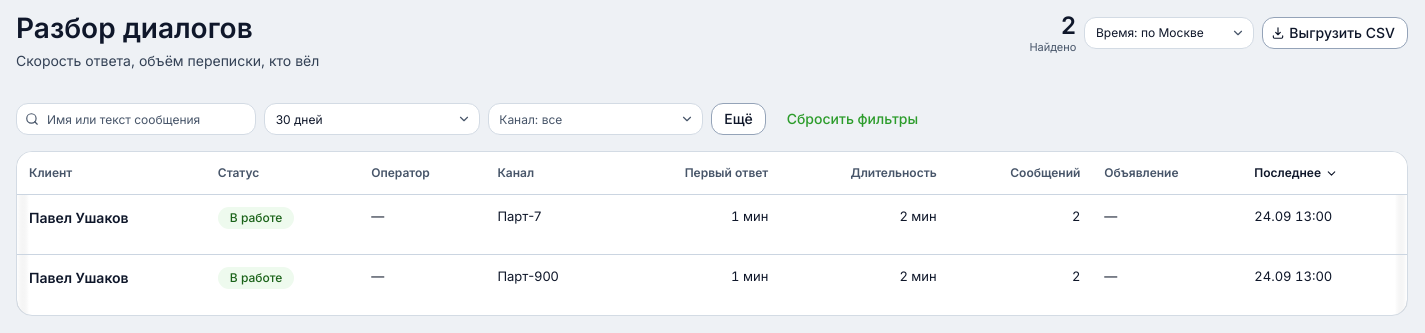
Test: Фильтр «Канал» в «Разборе диалогов» › у менеджера варианты собраны из строк таблицы
The image size is (1425, 333).
Click the field named "Фильтр по каналу" at {"x": 596, "y": 119}, box [488,103,703,135]
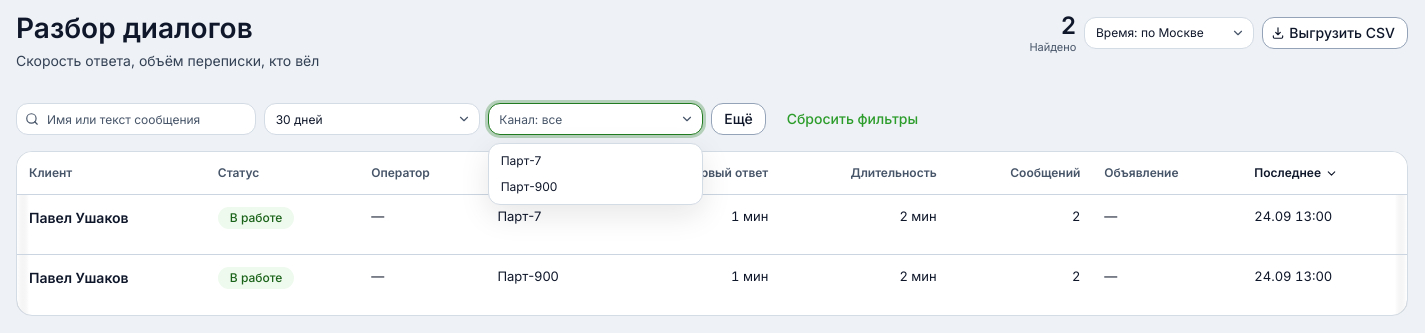
Check: the option "Парт-7" is shown, box [501,153,541,168]
Check: the option "Парт-900" is shown, box [501,179,557,194]
